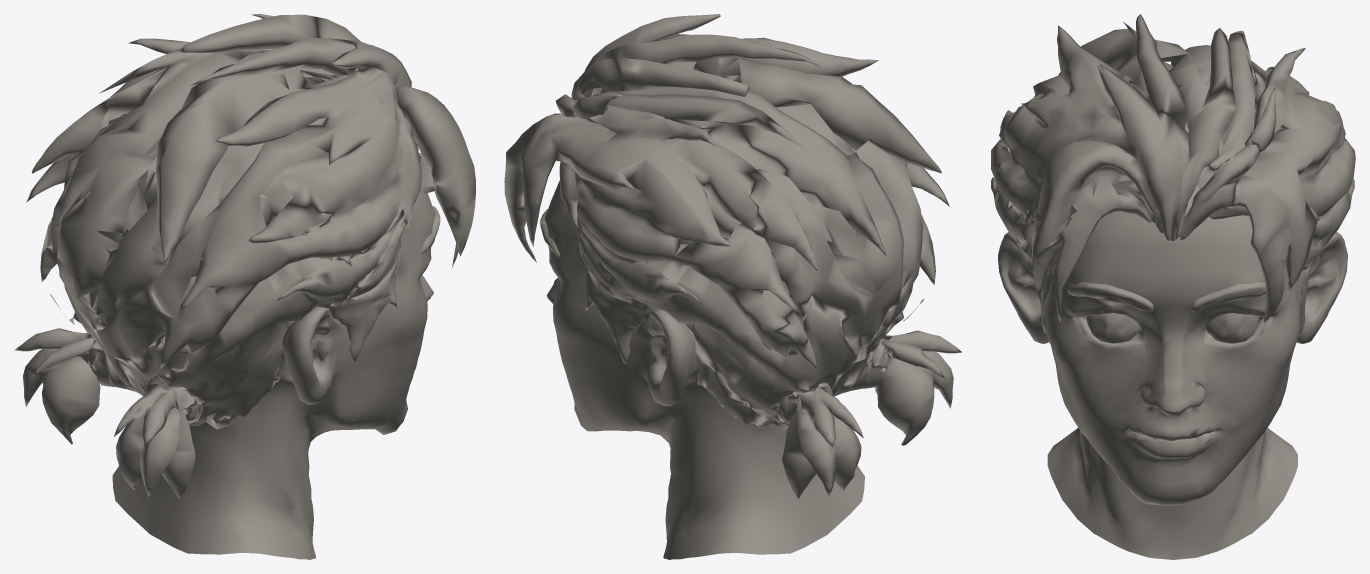
Rendered from clay-uv.glb.
3 views of the same model, side by side, from view 1: azimuth 30°, elevation 25°; view 2: azimuth 150°, elevation 25°; view 3: azimuth 270°, elevation 25° (orthographic).
Parts seen in each view (by area): view 1: MeshAxiom; view 2: MeshAxiom; view 3: MeshAxiom.
Boxes of the visible parts, x1,y1,x2,y2 form: MeshAxiom: (14, 14, 475, 559); MeshAxiom: (504, 14, 961, 559); MeshAxiom: (991, 14, 1355, 559).
Bounding box in the file's own units: 0.2594 × 0.35 × 0.2314.
1 material, 1 textured.
